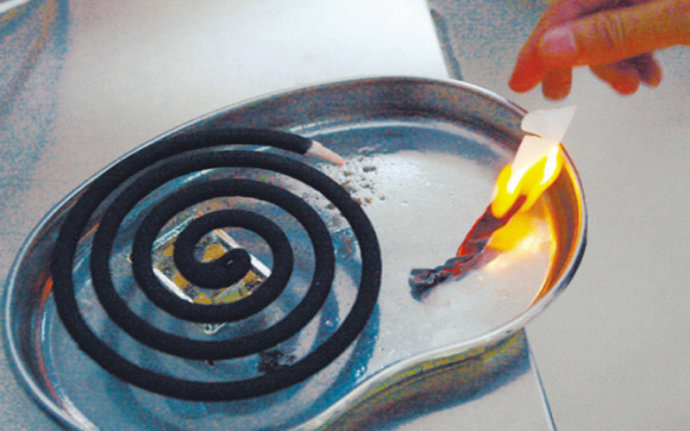Open-Flame-Hazard: (37, 109, 387, 408), (374, 93, 584, 310)
